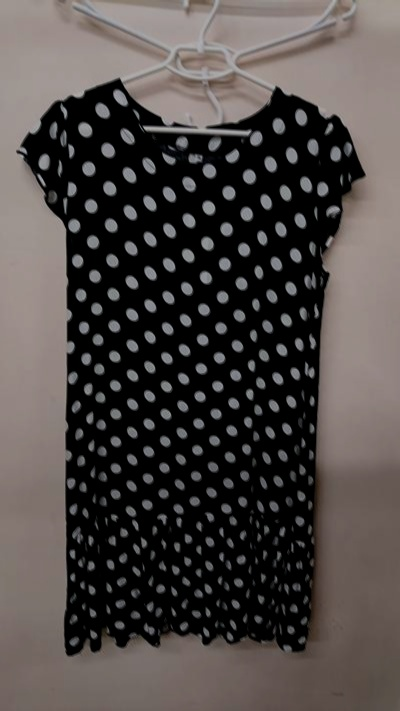Dress: (1, 56, 356, 664)
